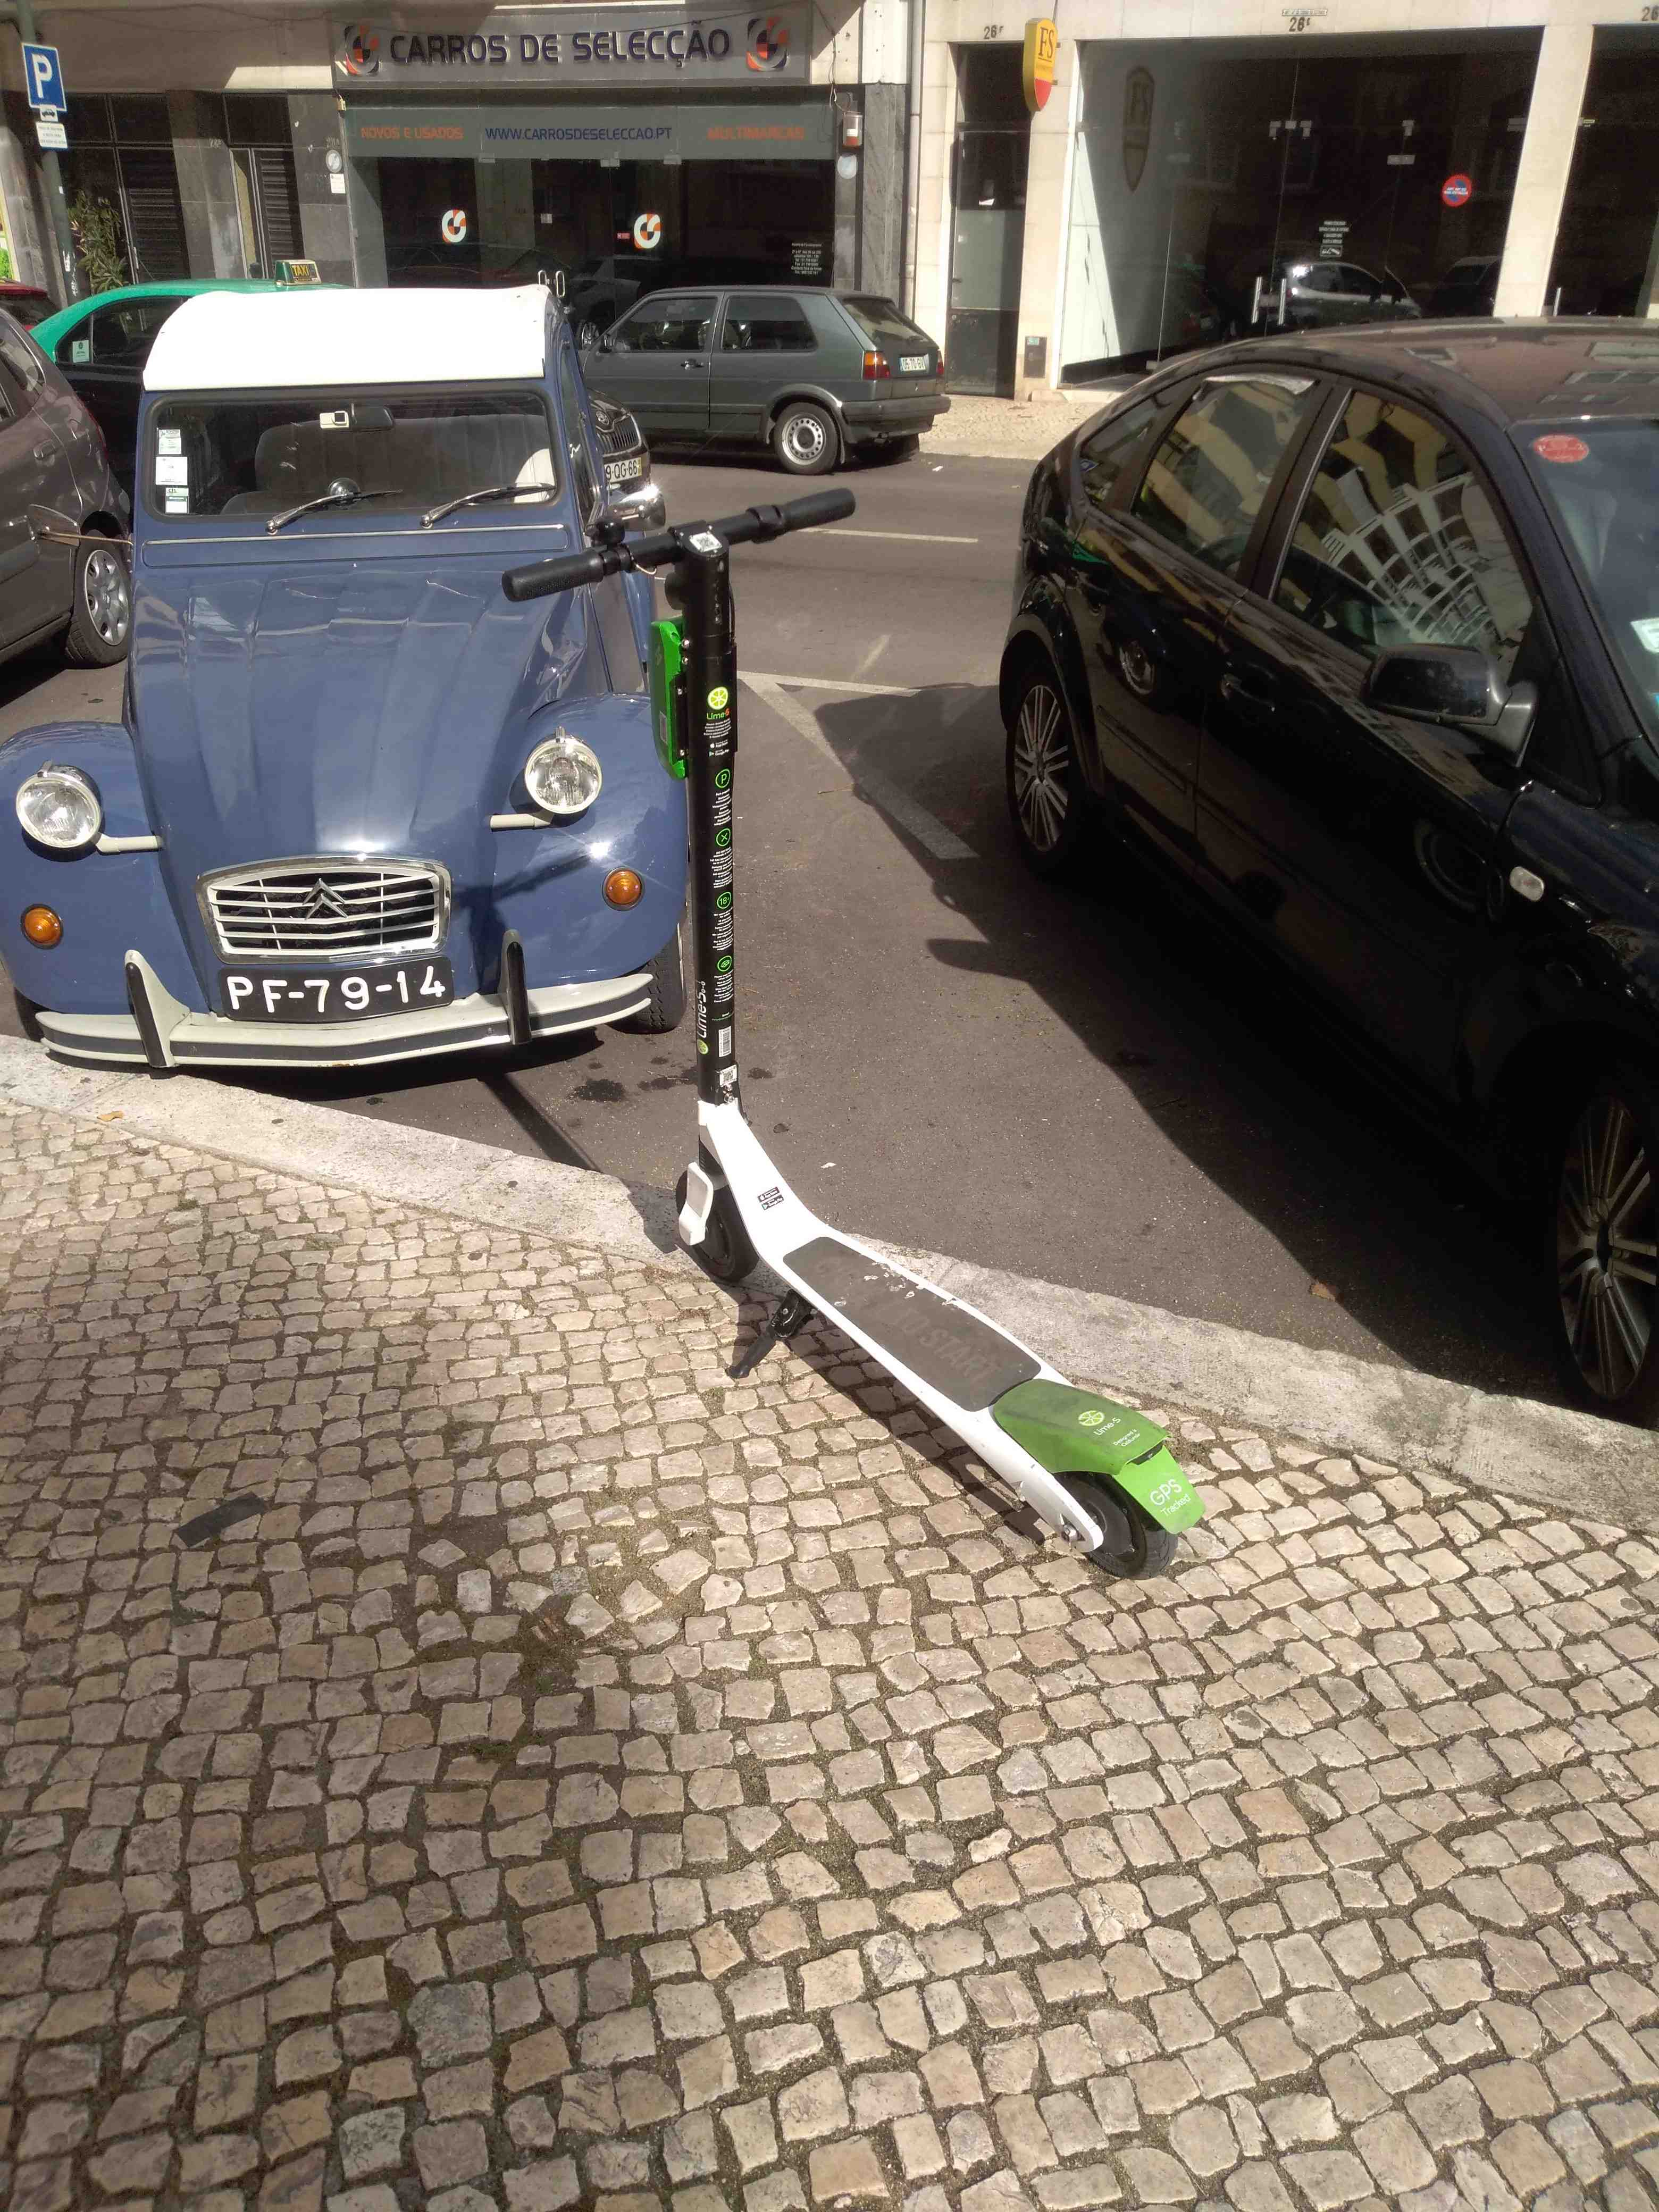scooter: (450, 472, 1260, 1601)
